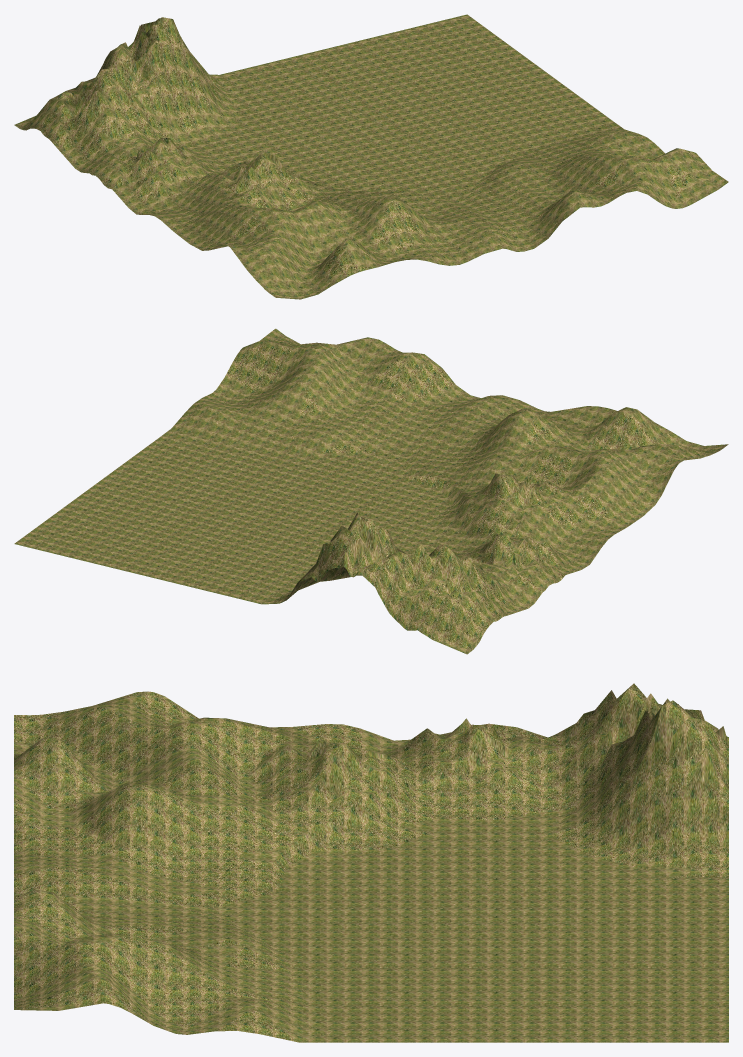
3 renders of one model, top to bottom at view 1: azimuth 30°, elevation 25°; view 2: azimuth 150°, elevation 25°; view 3: azimuth 270°, elevation 25°, orthographic. The views are drawn at different scales.
Parts seen in each view (by area): view 1: Mesh; view 2: Mesh; view 3: Mesh.
Boxes of the visible parts, x1,y1,x2,y2 form: Mesh: [14, 14, 728, 299]; Mesh: [14, 328, 728, 654]; Mesh: [14, 683, 728, 1042].
Size of the model in its own units: 50 by 9.67 by 50.
Materials: 1 (1 with a texture image).
